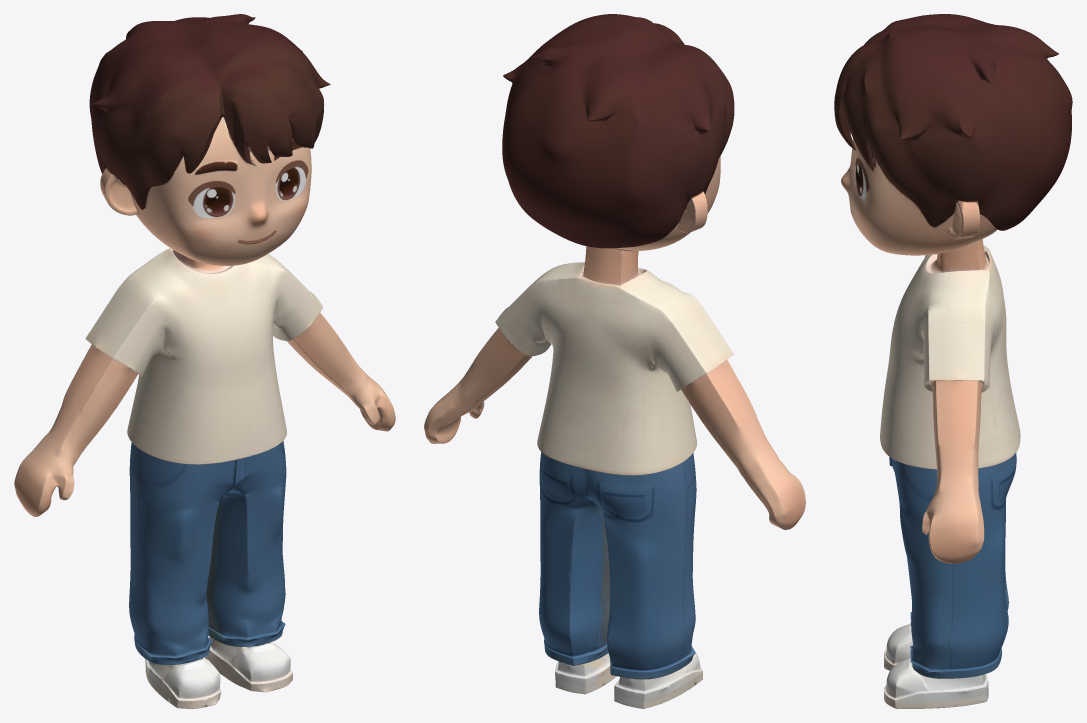
File: char_namja_jachwi_base.glb
3 renders of one model, left to right at view 1: azimuth 30°, elevation 25°; view 2: azimuth 150°, elevation 25°; view 3: azimuth 270°, elevation 25°, orthographic.
Size of the model in its own units: 1.11 by 1.9 by 0.6294.
1 material, 1 textured.
